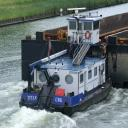tugboat: (19, 7, 114, 120)
